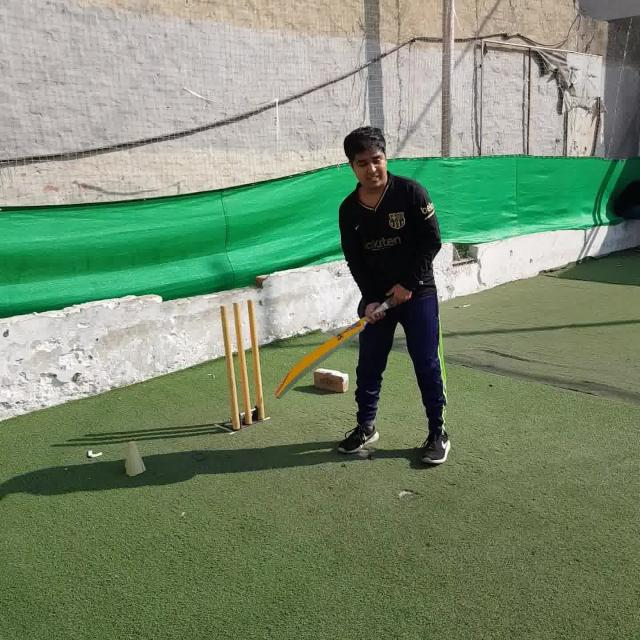bat: (275, 300, 392, 398)
